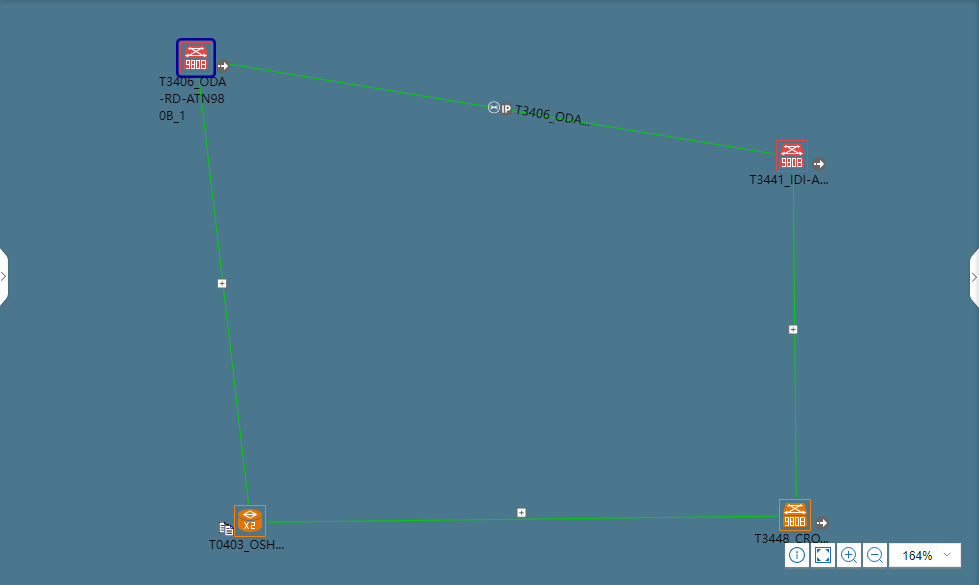ATN_Orange: (780, 504, 808, 533)
ATN_Red: (774, 143, 809, 172), (181, 45, 210, 74)
Link_Green: (236, 63, 774, 159), (199, 94, 252, 508), (291, 516, 594, 527), (266, 516, 598, 523), (792, 358, 803, 502)
Router_Orange: (236, 510, 263, 539)
